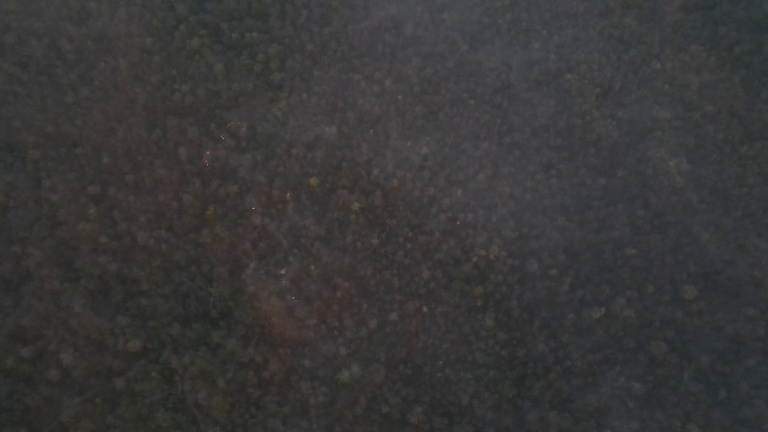fire: (217, 118, 244, 142), (202, 145, 213, 168), (247, 202, 257, 214), (290, 295, 299, 300), (334, 320, 339, 328)
